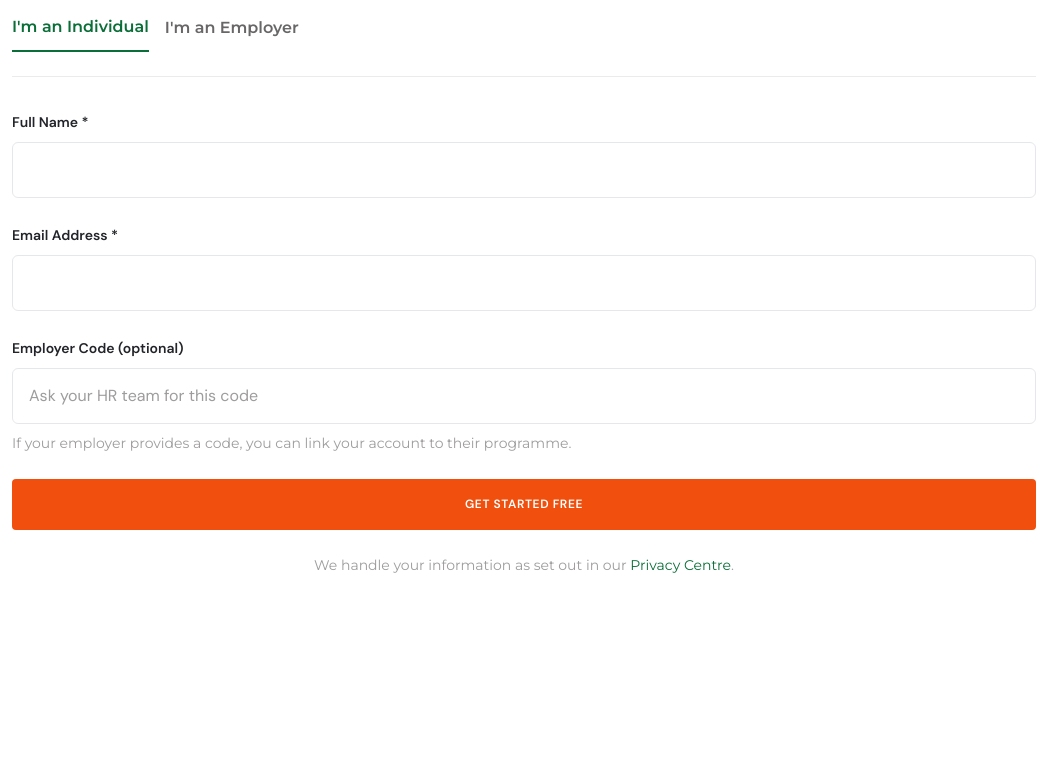
Test case: GetStartedForm › switches to employer path when clicked
Step 1. Click the button "I'm an Employer" → (232, 32), box [165,12,299,52]
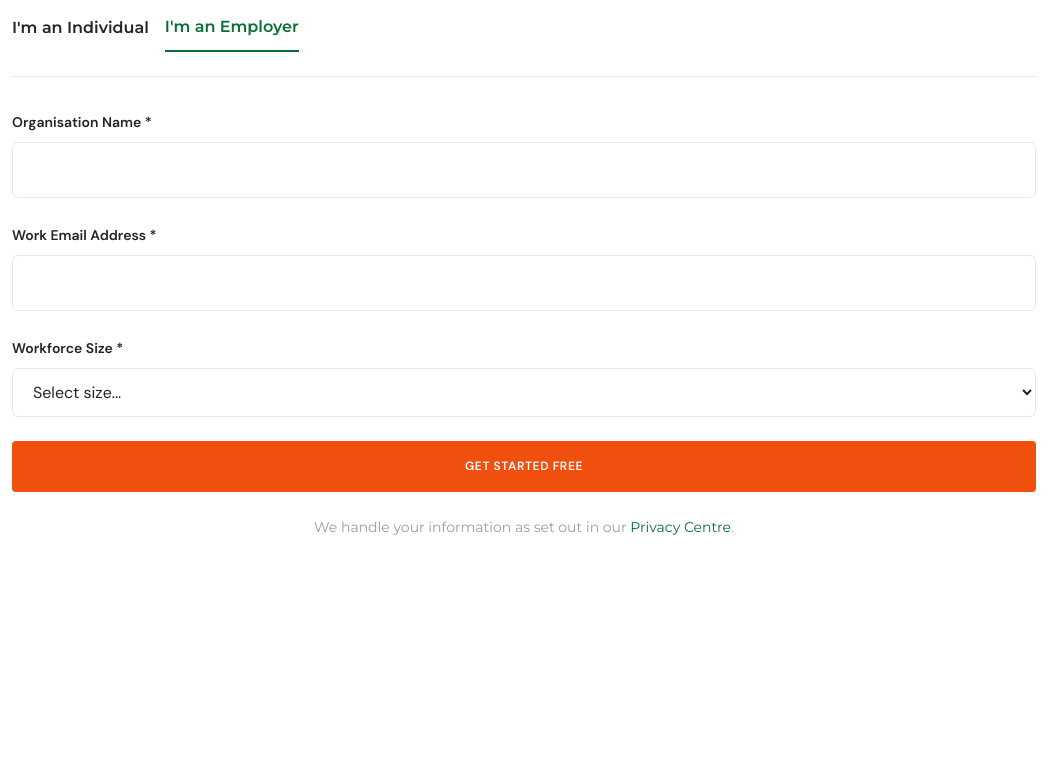
expect the field labelled "Organisation Name *" is shown: met, box [12,142,1036,198]
expect the dropdown labelled "Workforce Size *" is shown: met, box [12,368,1036,417]
